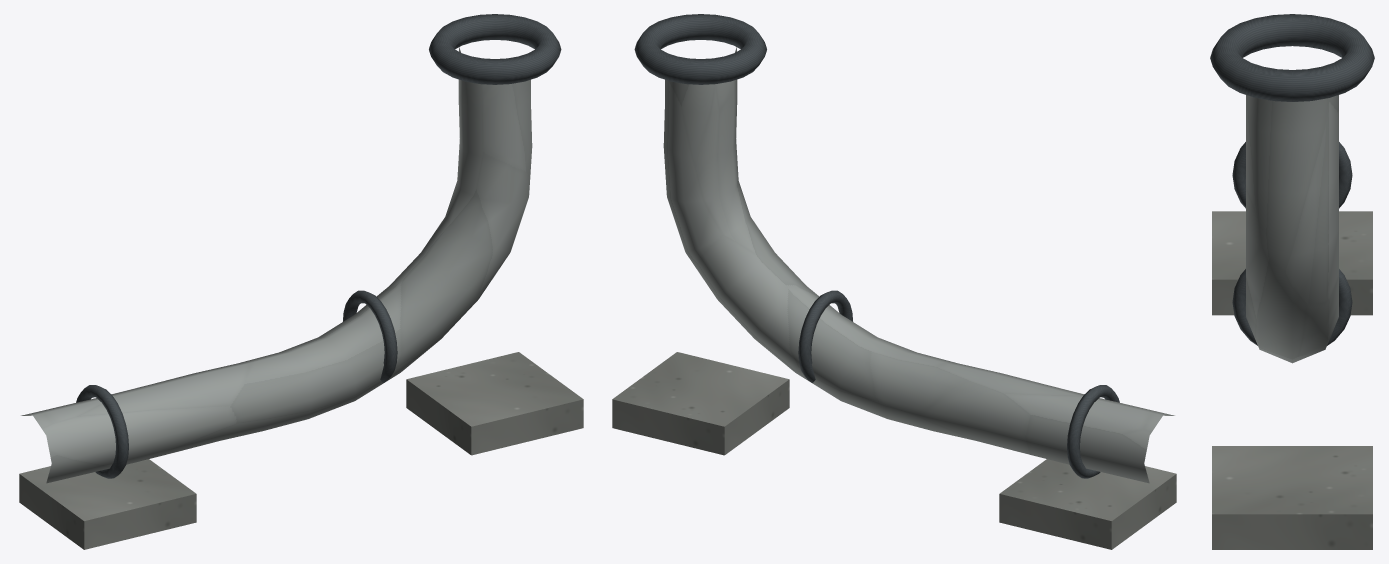
File: service-pipe-elbow.lod1.gltf
3 views of the same model, side by side, from view 1: azimuth 30°, elevation 25°; view 2: azimuth 150°, elevation 25°; view 3: azimuth 270°, elevation 25° (orthographic). The views are drawn at different scales.
Parts seen in each view (by area): view 1: service-pipe-elbow; view 2: service-pipe-elbow; view 3: service-pipe-elbow.
Part boxes in pixels (<box>): service-pipe-elbow: <box>19,14,583,549</box>; service-pipe-elbow: <box>612,14,1176,549</box>; service-pipe-elbow: <box>1210,14,1374,549</box>.
Bounding box in the file's own units: 4.16 × 2.9 × 0.92.
Materials: 3 (3 with a texture image).
